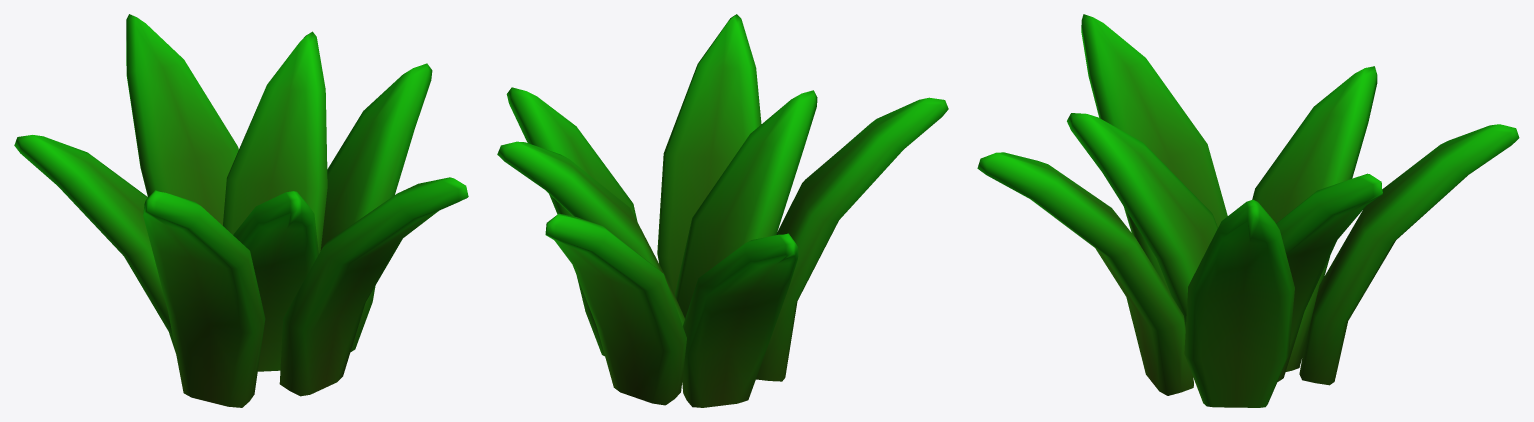
The model's file is SM_Vegetation_Plant_C_LightGreen.fbx.
3 renders of one model, left to right at view 1: azimuth 30°, elevation 25°; view 2: azimuth 150°, elevation 25°; view 3: azimuth 270°, elevation 25°, orthographic. The views are drawn at different scales.
Visible parts, largest first — view 1: SM_Vegetation_Plant_C_LightGreen; view 2: SM_Vegetation_Plant_C_LightGreen; view 3: SM_Vegetation_Plant_C_LightGreen.
Boxes of the visible parts, <box> form: SM_Vegetation_Plant_C_LightGreen: <box>14,14,468,407</box>; SM_Vegetation_Plant_C_LightGreen: <box>497,14,948,407</box>; SM_Vegetation_Plant_C_LightGreen: <box>977,14,1519,407</box>.
Size of the model in its own units: 93.87 by 68.09 by 118.
